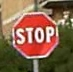stop: (10, 11, 59, 58)
